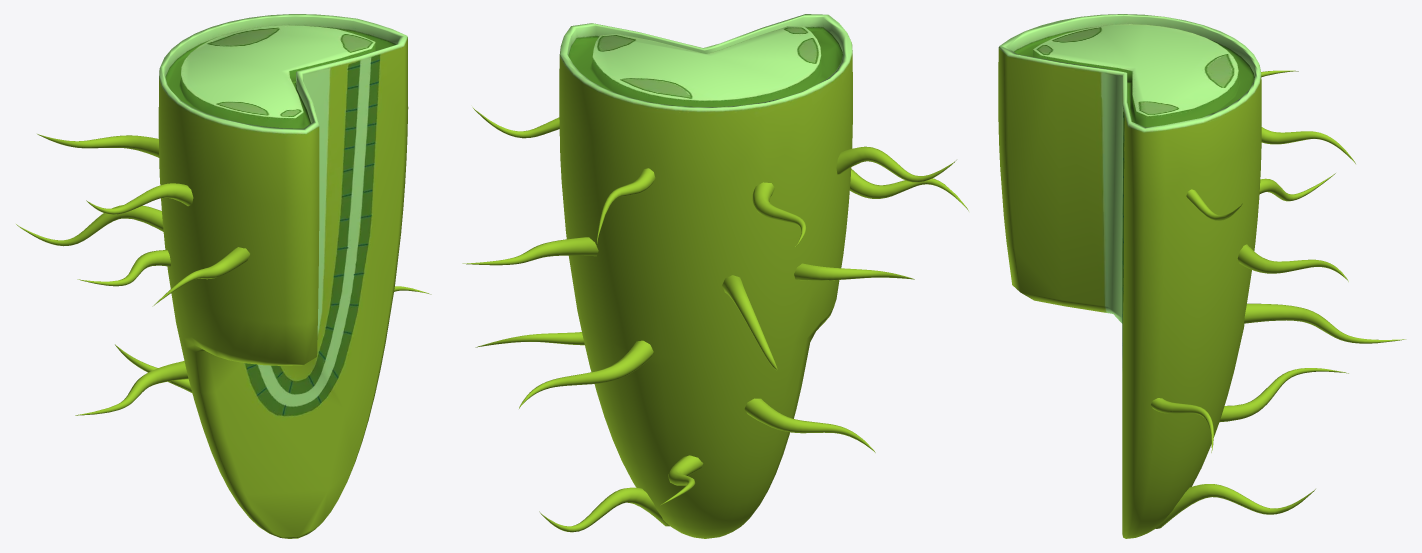
The model's file is root_tip.glb.
3 renders of one model, left to right at view 1: azimuth 30°, elevation 25°; view 2: azimuth 150°, elevation 25°; view 3: azimuth 270°, elevation 25°, orthographic. The views are drawn at different scales.
Parts seen in each view (by area): view 1: pSphere1, sweep15; view 2: pSphere1, sweep15; view 3: pSphere1, sweep15.
Part boxes in pixels (x1,y1,x2,y2): pSphere1: [158, 14, 408, 538]; sweep15: [16, 134, 431, 415]; pSphere1: [559, 14, 852, 538]; sweep15: [462, 107, 968, 532]; pSphere1: [998, 14, 1261, 538]; sweep15: [1151, 70, 1405, 528].
Size of the model in its own units: 0.1706 by 0.1876 by 0.1503.
2 materials, 1 textured.
